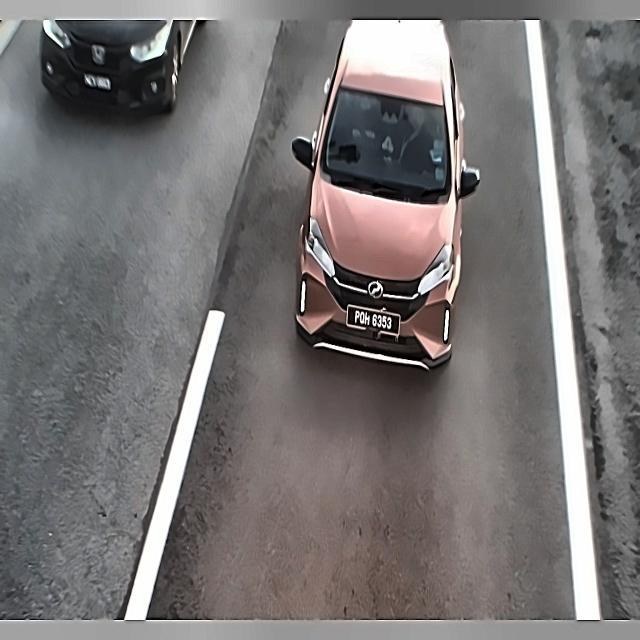car: (344, 298, 404, 341), (75, 68, 120, 97)
